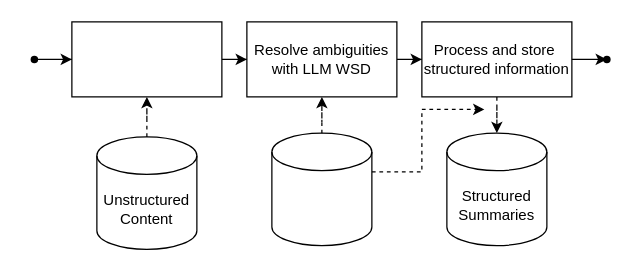
Some shapes in this 641 by 271 pixel diagram are drawn without their labels. The shapes that lost their labels are listed below. From the top down, each one's box as (x1, y1, x2, y2) in pixels, then its label:
(71, 21, 222, 97): Summarize content with LLM
(271, 132, 372, 246): Entity Catalog
